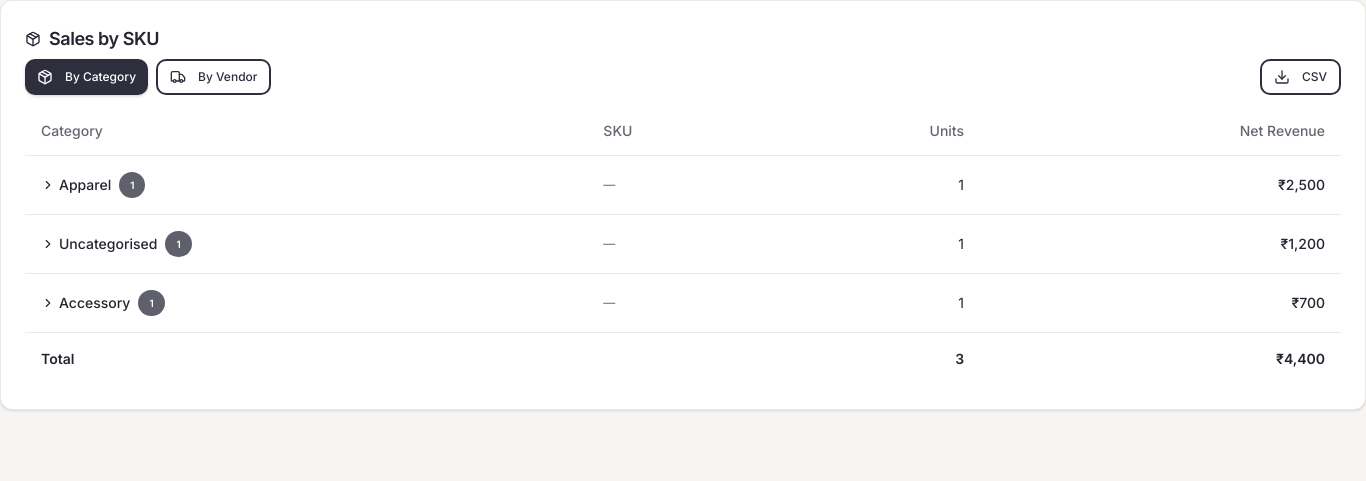
Scenario: SalesByProductReport › reveals SKU rows when a category is clicked
Click the row with test id "group-Apparel": click(683, 184) [25,155,1341,214]
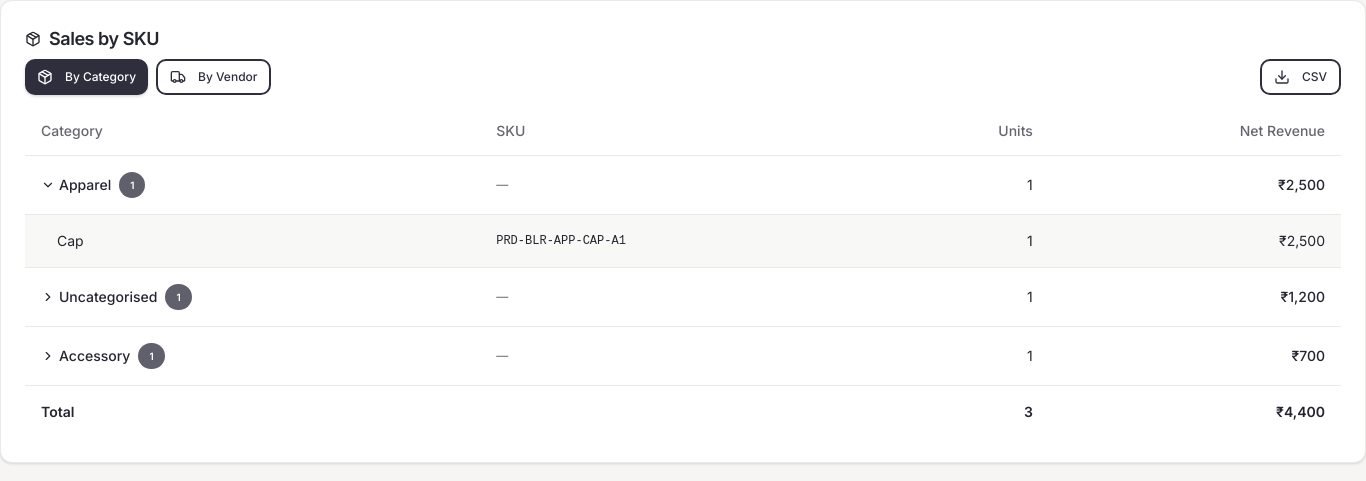
Check: the text "PRD-BLR-APP-CAP-A1" is shown, box [480,214,883,267]
Check: the text "Cap" is shown, box [25,214,480,267]
